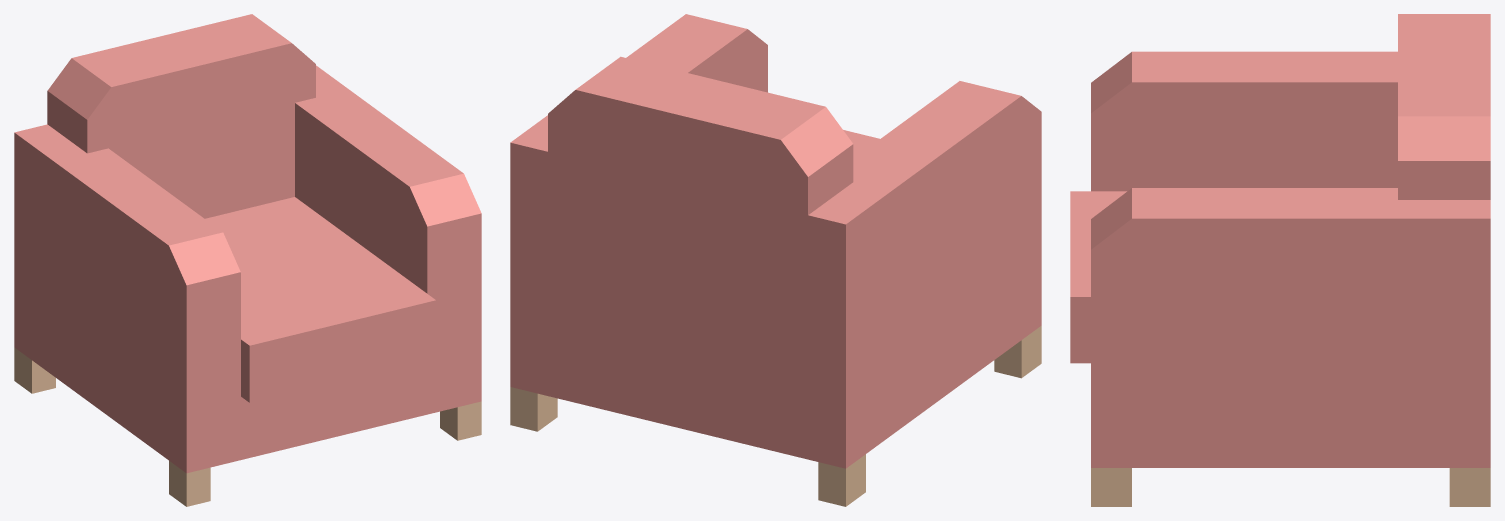
The model's file is kenney-loungeChair.glb.
3 renders of one model, left to right at view 1: azimuth 30°, elevation 25°; view 2: azimuth 150°, elevation 25°; view 3: azimuth 270°, elevation 25°, orthographic. The views are drawn at different scales.
Visible parts, largest first — view 1: loungeChair(Clone); view 2: loungeChair(Clone); view 3: loungeChair(Clone).
Part boxes in pixels (x1,y1,x2,y2): loungeChair(Clone): [14, 14, 481, 506]; loungeChair(Clone): [510, 14, 1041, 506]; loungeChair(Clone): [1070, 14, 1490, 506].
Size of the model in its own units: 0.8 by 0.8001 by 0.8501.
